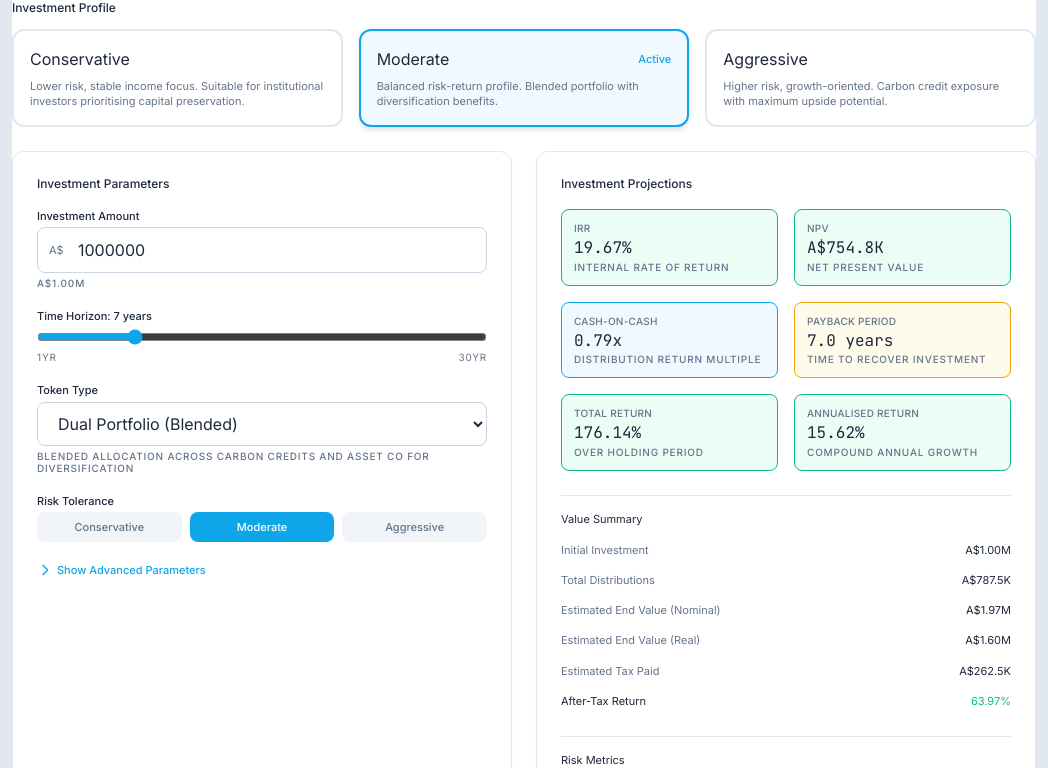
Scenario: InvestmentCalculator Component › shows advanced parameters when toggled
Step 1. Click the button with test id "toggle-advanced" → point(121, 570), box [37,562,206,578]
(page scrolled)
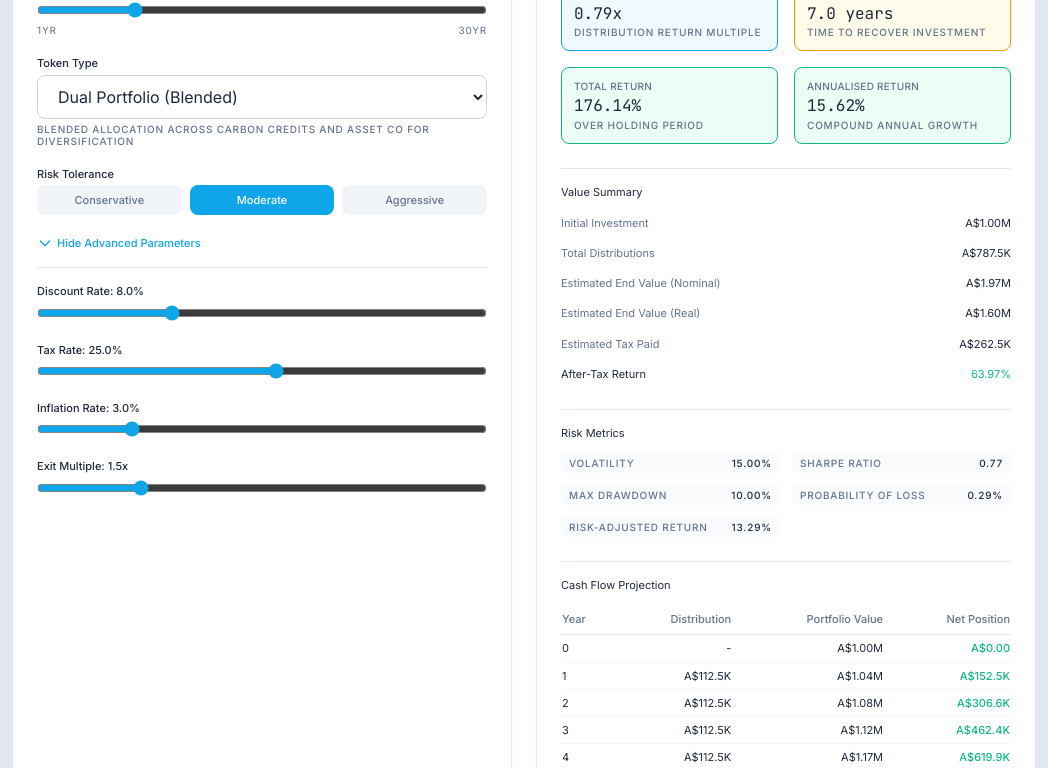
Expected: the element with test id "advanced-params" is shown, [37,267,487,502]
